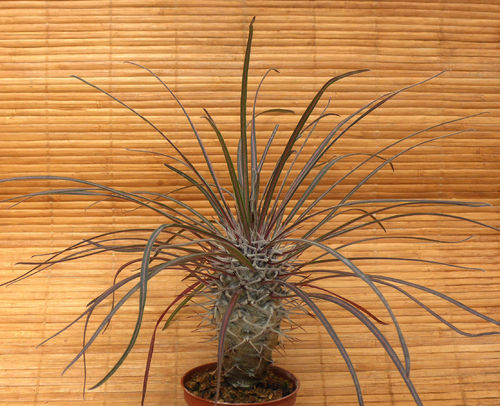Pachypodium geayi: (178, 144, 322, 386)
